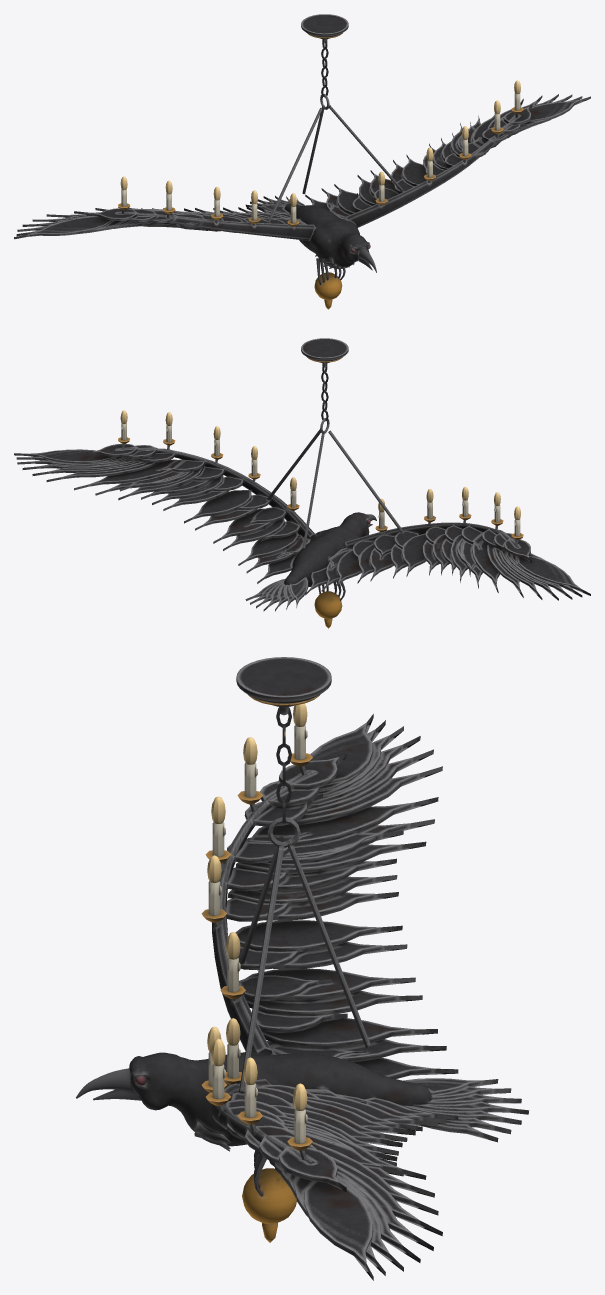
The model's file is ChandelierRavenWing.fbx.
3 views of the same model, one above another, from view 1: azimuth 30°, elevation 25°; view 2: azimuth 150°, elevation 25°; view 3: azimuth 270°, elevation 25° (orthographic). The views are drawn at different scales.
Parts seen in each view (by area): view 1: ChandelierRavenWing_Main, ChandelierRavenWing_Glow; view 2: ChandelierRavenWing_Main, ChandelierRavenWing_Glow; view 3: ChandelierRavenWing_Main, ChandelierRavenWing_Glow.
Part boxes in pixels (left/top/right/bottom): ChandelierRavenWing_Main: left=14, top=14, right=590, bottom=309; ChandelierRavenWing_Glow: left=120, top=80, right=520, bottom=206; ChandelierRavenWing_Main: left=14, top=338, right=590, bottom=628; ChandelierRavenWing_Glow: left=120, top=410, right=520, bottom=519; ChandelierRavenWing_Main: left=76, top=657, right=529, bottom=1280; ChandelierRavenWing_Glow: left=207, top=703, right=307, bottom=1110.
Size of the model in its own units: 949 by 445 by 323.
